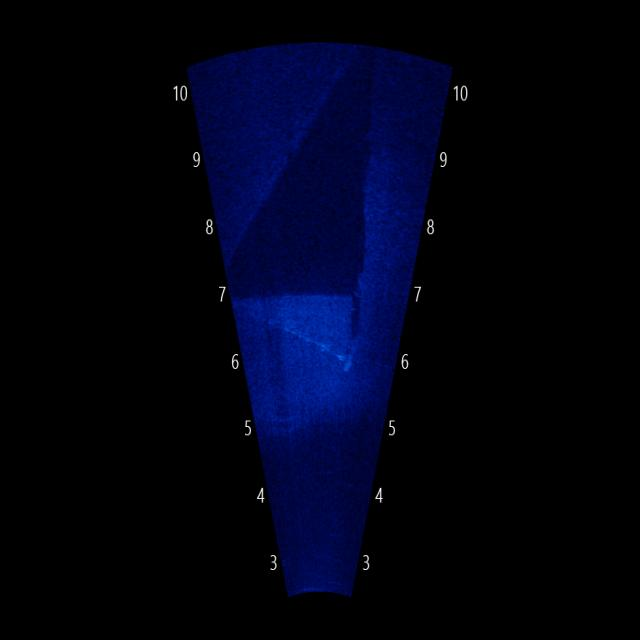triangle: (236, 259, 379, 365)
